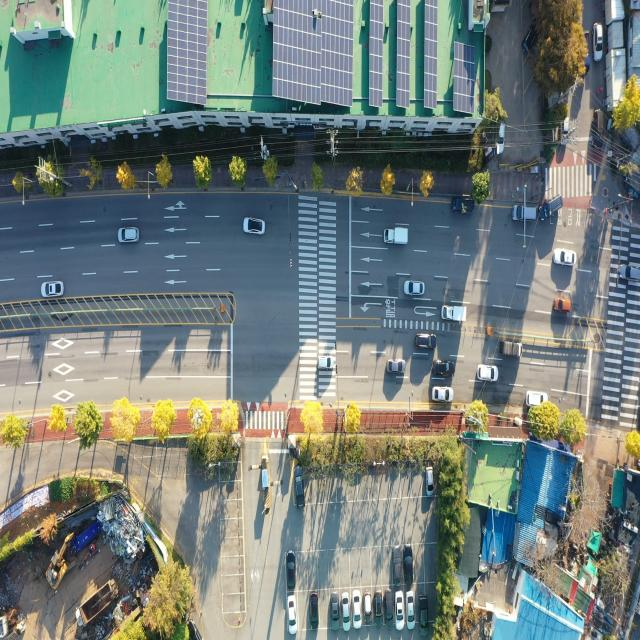car: (539, 196, 564, 222), (522, 23, 542, 53), (403, 546, 415, 588), (294, 466, 305, 506), (512, 205, 536, 223), (592, 110, 603, 149), (384, 586, 394, 628), (618, 264, 640, 283), (580, 34, 590, 74), (554, 248, 576, 266), (243, 217, 266, 234), (286, 552, 296, 591), (393, 546, 403, 584), (478, 363, 499, 381), (495, 122, 506, 156), (405, 280, 426, 297), (42, 281, 64, 297), (419, 594, 428, 632), (309, 593, 319, 627), (120, 228, 141, 244), (525, 391, 547, 406), (434, 360, 456, 375), (552, 296, 570, 314), (331, 591, 339, 631), (560, 116, 570, 148), (408, 591, 416, 630), (288, 595, 296, 633), (595, 21, 603, 59), (386, 359, 406, 374), (363, 590, 372, 623), (343, 594, 351, 630), (374, 590, 382, 626), (417, 336, 437, 350), (353, 592, 361, 627), (433, 388, 454, 401), (395, 592, 403, 624), (317, 355, 334, 370), (426, 465, 434, 495)
small_truck: (442, 302, 467, 323), (383, 227, 408, 245), (451, 198, 474, 216), (499, 342, 524, 358)
